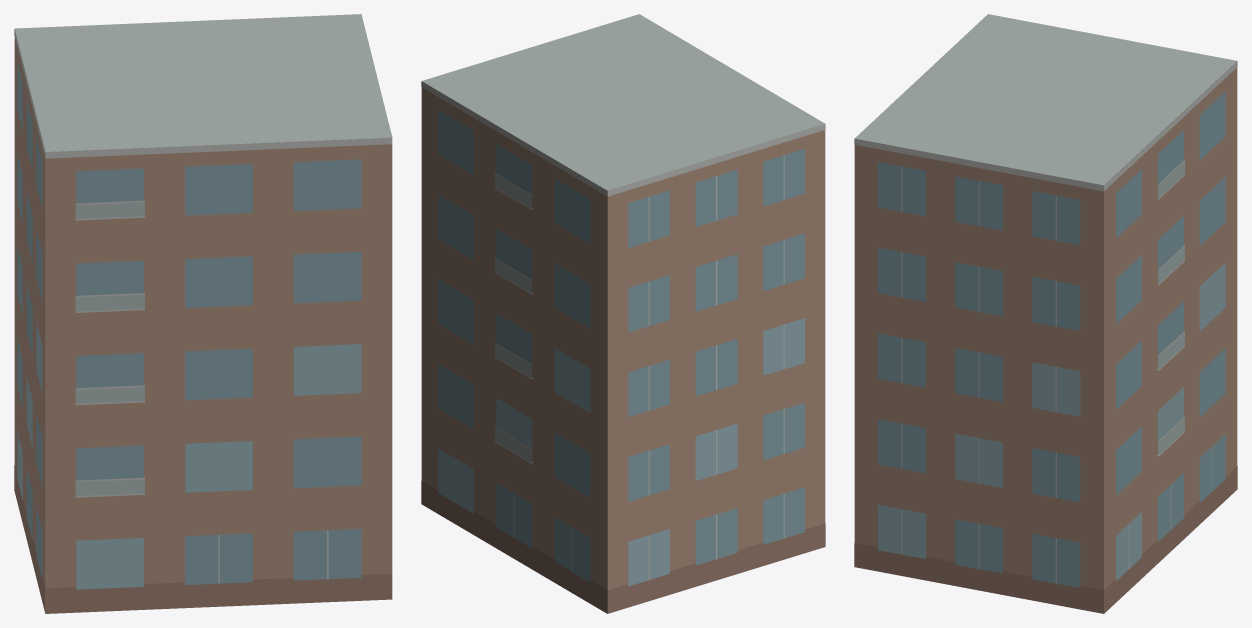
The model's file is survey-upis-32523693.glb.
The picture shows the model from 3 angles, left to right: view 1: azimuth 30°, elevation 25°; view 2: azimuth 150°, elevation 25°; view 3: azimuth 270°, elevation 25°; orthographic projection. The views are drawn at different scales.
Parts seen in each view (by area): view 1: survey-upis-32523693.tmp; view 2: survey-upis-32523693.tmp; view 3: survey-upis-32523693.tmp.
Part boxes in pixels (x1,y1,x2,y2): survey-upis-32523693.tmp: (14, 14, 392, 613); survey-upis-32523693.tmp: (421, 14, 825, 613); survey-upis-32523693.tmp: (854, 14, 1237, 613).
Bounding box in the file's own units: 14.76 × 17.2 × 13.94.
